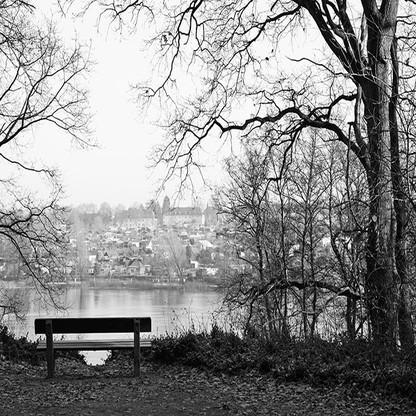obstacle: (27, 304, 157, 376)
